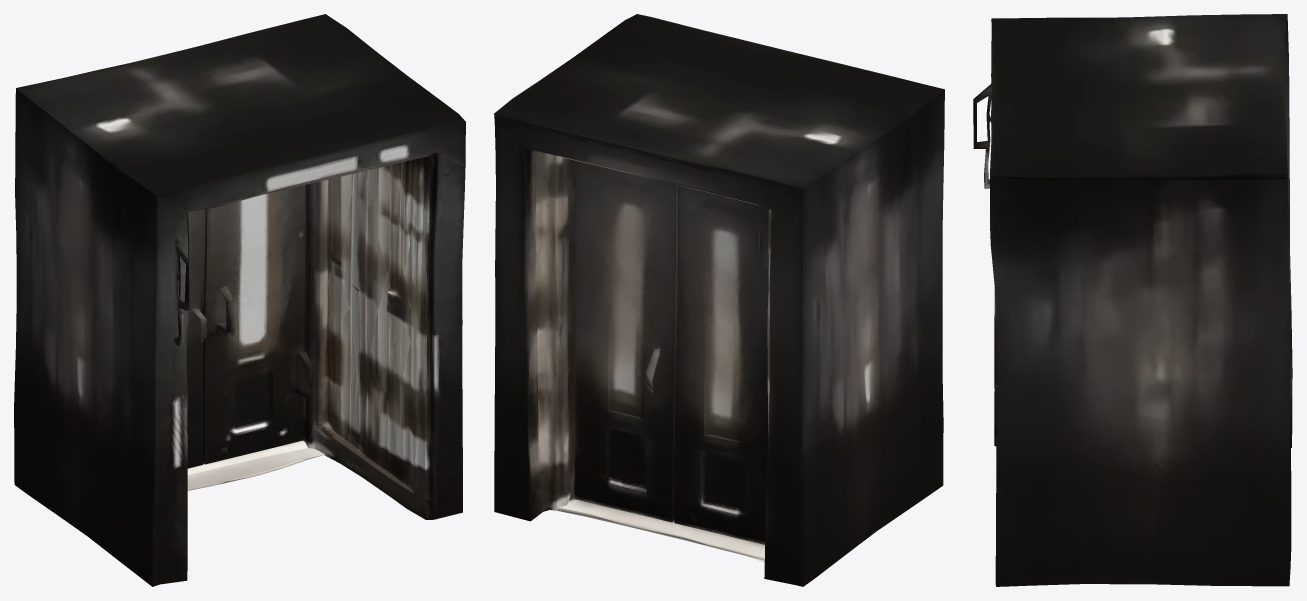
File: m2CoreGate.glb
The picture shows the model from 3 angles, left to right: view 1: azimuth 30°, elevation 25°; view 2: azimuth 150°, elevation 25°; view 3: azimuth 270°, elevation 25°; orthographic projection. The views are drawn at different scales.
Parts seen in each view (by area): view 1: model; view 2: model; view 3: model.
Part boxes in pixels (x1,y1,x2,y2): model: [14, 14, 465, 586]; model: [494, 14, 944, 586]; model: [973, 14, 1292, 586].
Bounding box in the file's own units: 1.56 × 1.9 × 1.31.
Materials: 1 (1 with a texture image).
